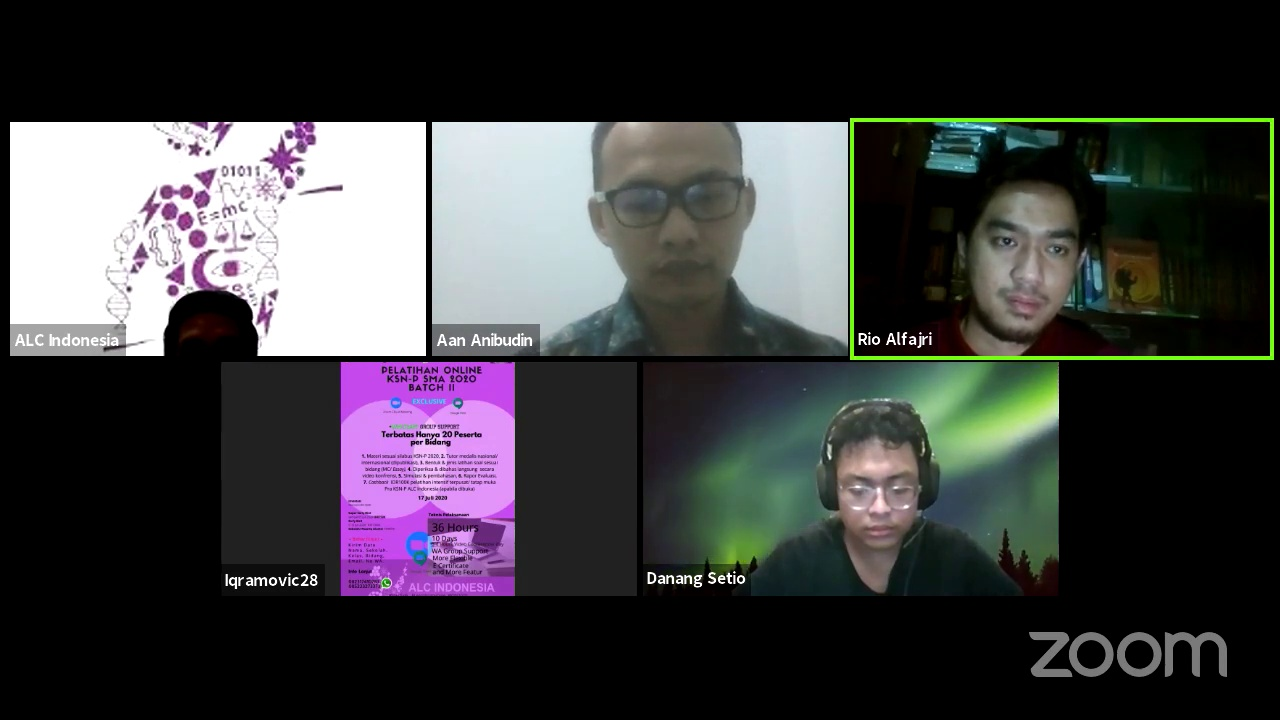Distracted: (802, 411, 943, 555)
Not Distracted: (579, 142, 777, 323), (967, 176, 1086, 344)
